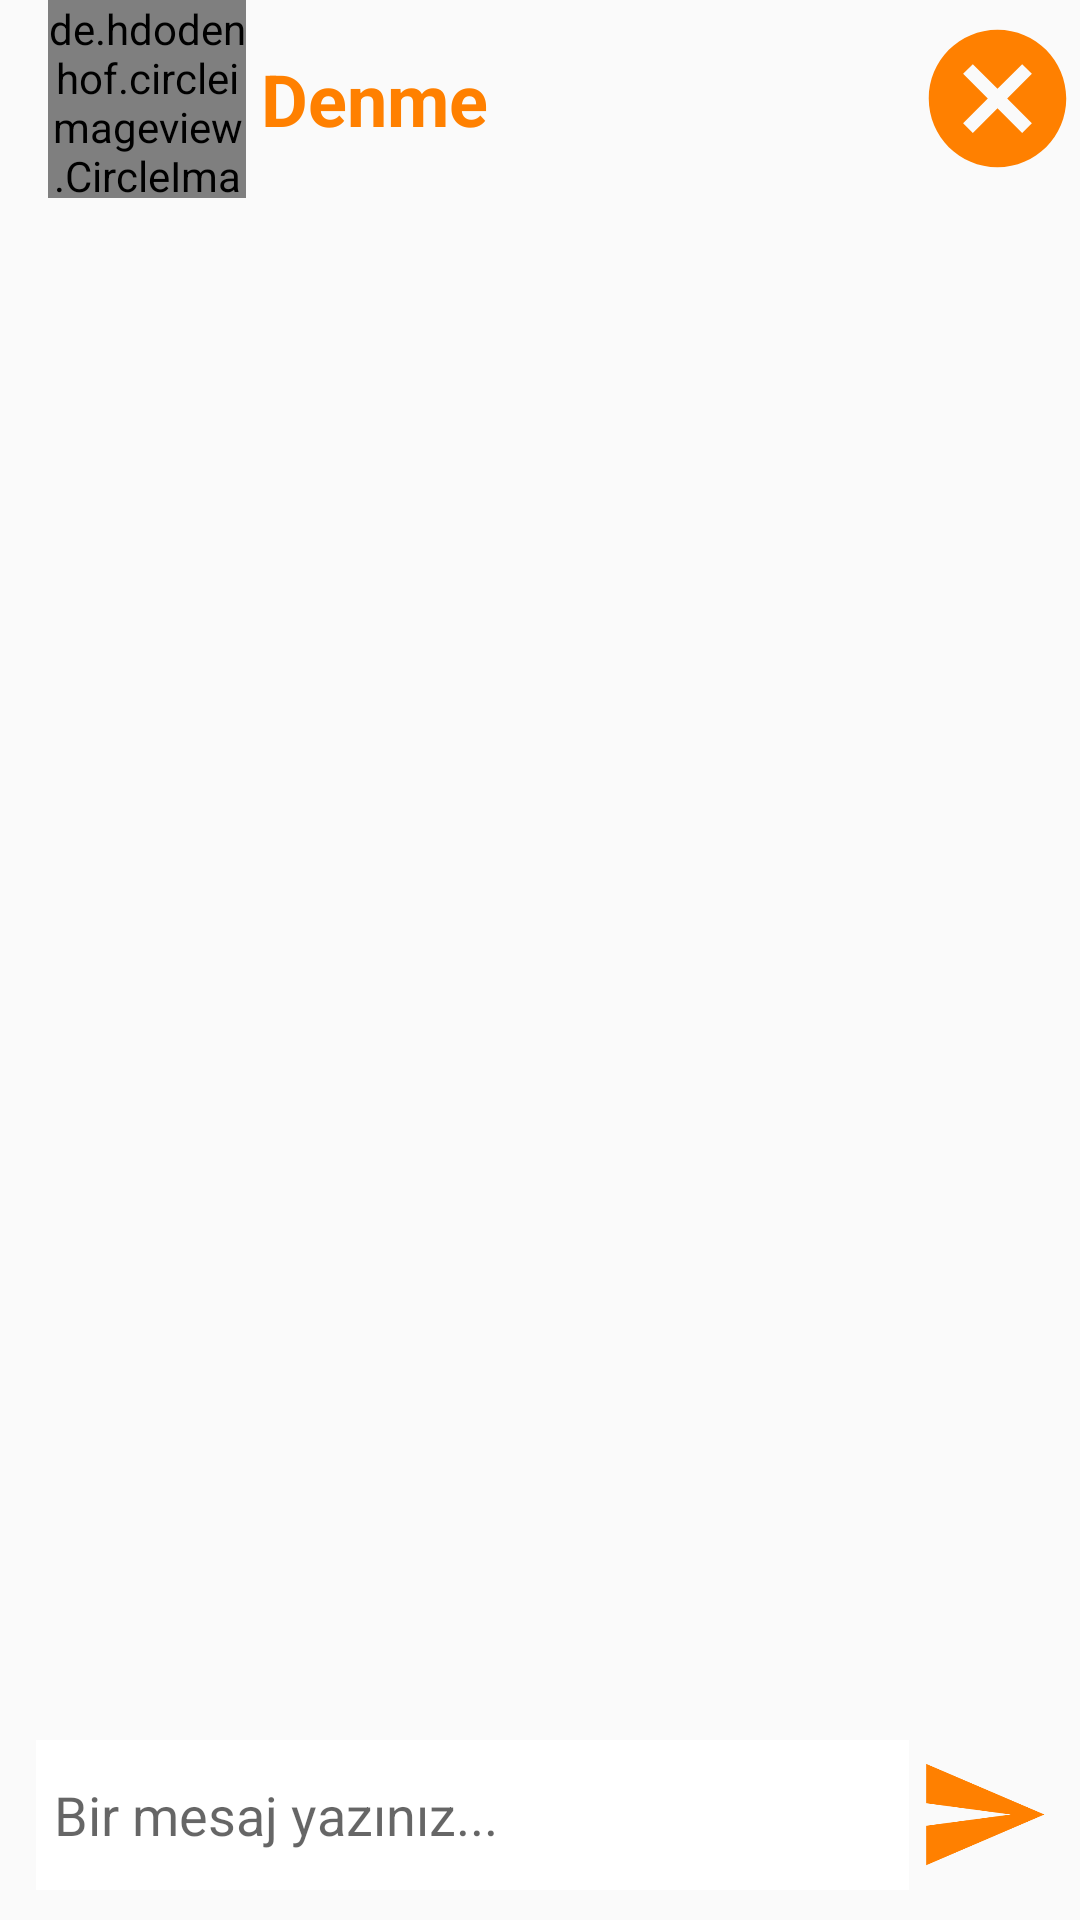

Icon click points for this 1080x1920 phone screenshot, format (x,y):
cancel: (997,98)
send: (985,1814)
